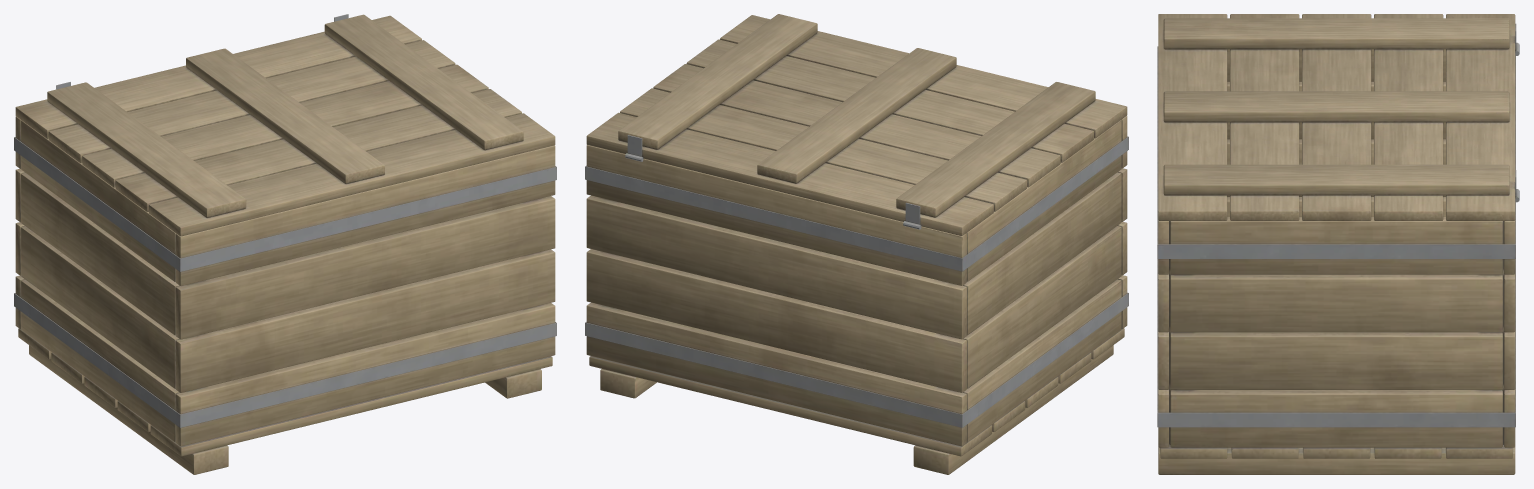
File: caixa_madeira.glb
The picture shows the model from 3 angles, left to right: view 1: azimuth 30°, elevation 25°; view 2: azimuth 150°, elevation 25°; view 3: azimuth 270°, elevation 25°; orthographic projection. The views are drawn at different scales.
Visible parts, largest first — view 1: caixote, tampa; view 2: caixote, tampa; view 3: caixote, tampa.
Boxes of the visible parts, x1=… form: caixote: x1=14, y1=116, x2=556, y2=474; tampa: x1=15, y1=14, x2=555, y2=236; caixote: x1=585, y1=116, x2=1128, y2=474; tampa: x1=586, y1=14, x2=1127, y2=235; caixote: x1=1157, y1=46, x2=1515, y2=474; tampa: x1=1158, y1=14, x2=1519, y2=220.
Size of the model in its own units: 0.847 by 0.5635 by 0.6535.
Materials: 2 (2 with a texture image).
